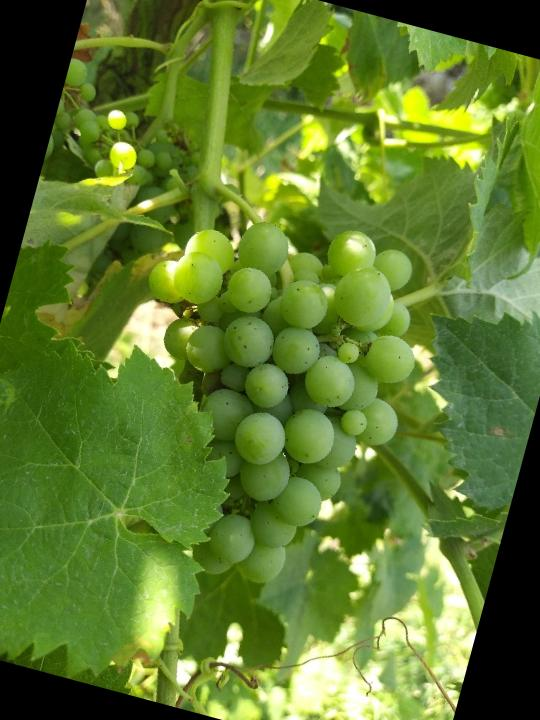grape: (78, 181, 446, 611)
